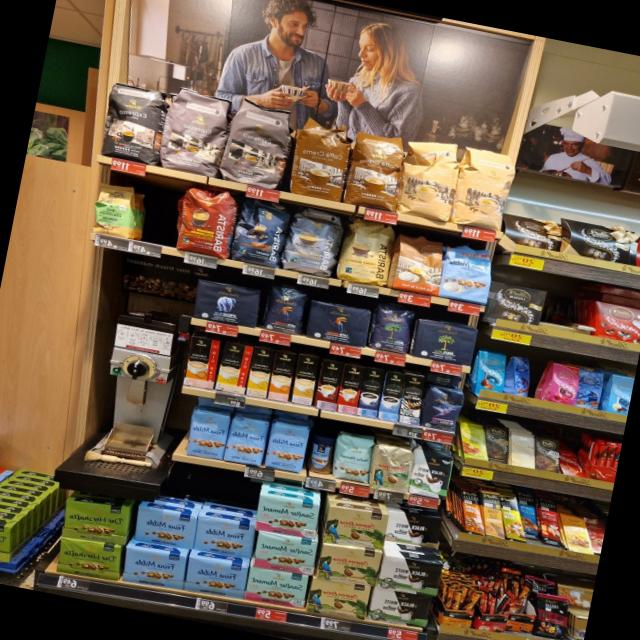AB Gemahlen: (190, 276, 264, 330)
Athiopien Bohne: (86, 178, 142, 241)
BM Bohne: (368, 302, 419, 356)
BM Gemahlen: (410, 316, 479, 368)
BW Bohne: (406, 446, 456, 502)
BW Gemahlen: (366, 584, 434, 630), (377, 552, 445, 598)
Barista CB: (335, 216, 397, 289)
Barista CC: (280, 204, 344, 278)
Barista Espresso: (229, 196, 292, 270)
Barista Kolumbien: (174, 184, 238, 258)
C Fino Bohne: (421, 384, 466, 434)
CC Mild: (448, 145, 520, 234), (394, 134, 464, 222)
CC Vollmundig: (391, 233, 446, 298)
CC Vollmundig 36 Pads: (287, 119, 354, 202), (343, 128, 408, 212)
Colombia BB Bohne: (367, 439, 417, 495)
Colombia BB Gemahlen: (322, 502, 391, 554), (316, 538, 384, 590), (305, 576, 373, 622)
Espresso Aromatisch: (218, 98, 296, 190)
Espresso Kraftig: (98, 79, 168, 164)
Espresso M Art: (157, 88, 234, 178)
FM 36 Pads: (438, 242, 496, 305)
FM Bohne: (184, 406, 232, 462), (222, 413, 270, 468), (262, 420, 310, 474)
FM Gemahlen: (120, 544, 188, 592), (182, 553, 250, 601), (192, 512, 256, 561), (132, 504, 198, 551)
FM Instant: (304, 431, 336, 476)
Herzhatfe Mundig: (59, 494, 133, 548), (54, 534, 125, 584)
LG Bohne: (262, 281, 310, 336)
LG Gemahlen: (302, 298, 373, 350)
SM Bohne: (328, 432, 377, 486)
SM Gemahlen: (253, 488, 324, 542), (252, 528, 320, 578), (244, 563, 310, 610)
Simo CCMild: (215, 342, 254, 396)
Simo CCMild bigpack: (246, 346, 275, 398)
Simo CCVollmundig: (183, 336, 221, 390)
Simo CCVollmundig bigpack: (267, 350, 298, 402)
Simo Decaff: (290, 352, 320, 407)
Simo Es Brazil: (336, 363, 365, 415)
Simo Es Caramel: (314, 359, 344, 412)
Simo Es Elegant: (398, 373, 425, 425)
Simo Es Kraft: (357, 367, 385, 419)
Simo Es Vanilla: (378, 371, 406, 422)
